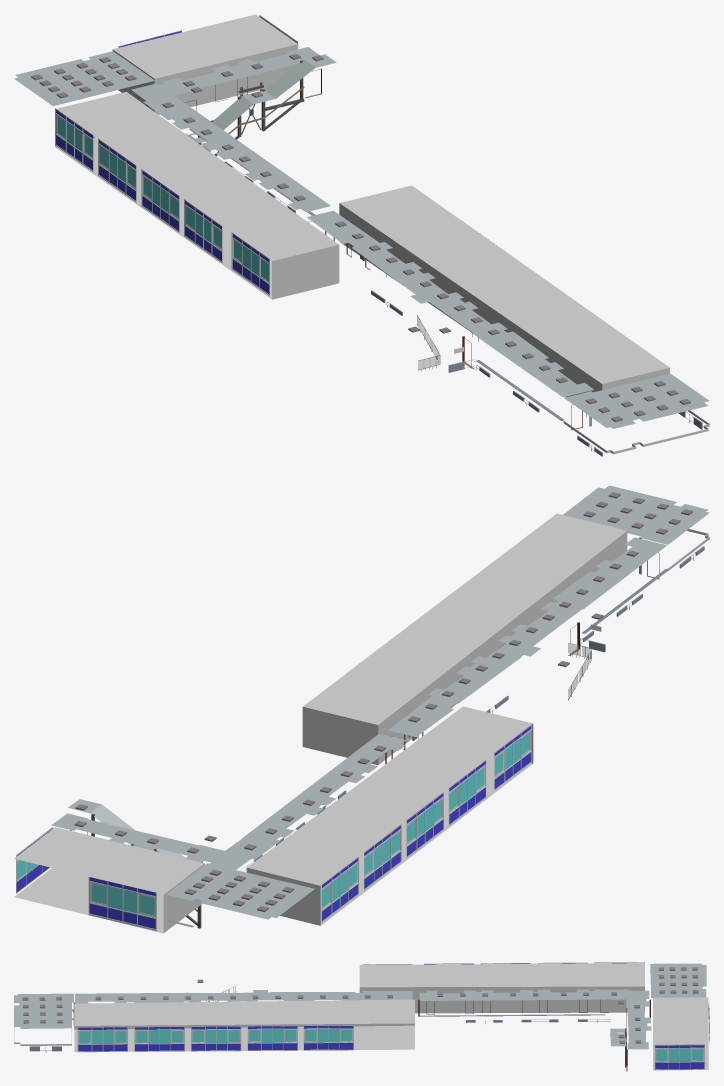
3 views of the same model, one above another, from view 1: azimuth 30°, elevation 25°; view 2: azimuth 150°, elevation 25°; view 3: azimuth 270°, elevation 25° (orthographic). The views are drawn at different scales.
Visible parts, largest first — view 1: Dummy box004, Dummy box004.596, Dummy box004.597, Dummy box004.409, Dummy box004.275, Dummy box004.613, Dummy box004.234, Dummy box004.576, Dummy box004.185, Dummy box004.168, Dummy box004.125, Dummy box004.186 (+5 smaller); view 2: Dummy box004, Dummy box004.596, Dummy box004.597, Dummy box004.409, Dummy box004.275, Dummy box004.613, Dummy box004.234, Dummy box004.115, Dummy box004.185, Dummy box004.186, Dummy box004.125, Dummy box004.188 (+7 smaller); view 3: Dummy box004.596, Dummy box004, Dummy box004.275, Dummy box004.409, Dummy box004.597, Dummy box004.613, Dummy box004.234, Dummy box004.102, Dummy box004.085, Dummy box004.059, Dummy box004.083, Dummy box004.039 (+7 smaller).
Part boxes in pixels (left/top/right/bottom): Dummy box004: left=339, top=185, right=669, bottom=397; Dummy box004.596: left=55, top=92, right=339, bottom=299; Dummy box004.597: left=112, top=14, right=298, bottom=114; Dummy box004.409: left=307, top=210, right=593, bottom=397; Dummy box004.275: left=131, top=47, right=330, bottom=212; Dummy box004.613: left=564, top=373, right=709, bottom=428; Dummy box004.234: left=14, top=51, right=154, bottom=106; Dummy box004.576: left=187, top=54, right=336, bottom=142; Dummy box004.185: left=184, top=199, right=222, bottom=262; Dummy box004.168: left=98, top=138, right=136, bottom=202; Dummy box004.125: left=231, top=232, right=269, bottom=295; Dummy box004.186: left=141, top=169, right=179, bottom=232; Dummy box004: left=302, top=513, right=627, bottom=765; Dummy box004.596: left=246, top=706, right=533, bottom=925; Dummy box004.597: left=14, top=827, right=204, bottom=933; Dummy box004.409: left=388, top=537, right=666, bottom=736; Dummy box004.275: left=51, top=733, right=405, bottom=869; Dummy box004.613: left=563, top=485, right=709, bottom=544; Dummy box004.234: left=166, top=863, right=314, bottom=919; Dummy box004.115: left=88, top=877, right=156, bottom=930; Dummy box004.185: left=448, top=760, right=486, bottom=826; Dummy box004.186: left=406, top=792, right=443, bottom=858; Dummy box004.125: left=494, top=724, right=531, bottom=790; Dummy box004.188: left=321, top=856, right=358, bottom=922; Dummy box004.596: left=359, top=963, right=644, bottom=1013; Dummy box004: left=74, top=999, right=414, bottom=1051; Dummy box004.275: left=419, top=989, right=651, bottom=1049; Dummy box004.409: left=75, top=990, right=412, bottom=1003; Dummy box004.597: left=653, top=997, right=708, bottom=1070; Dummy box004.613: left=14, top=993, right=73, bottom=1028; Dummy box004.234: left=650, top=963, right=706, bottom=997; Dummy box004.102: left=654, top=1044, right=704, bottom=1070; Dummy box004.085: left=77, top=1026, right=127, bottom=1052; Dummy box004.059: left=303, top=1025, right=353, bottom=1050; Dummy box004.083: left=134, top=1026, right=184, bottom=1051; Dummy box004.039: left=247, top=1025, right=297, bottom=1050.
Bounding box in the file's own units: 2132 × 685 × 7379.
